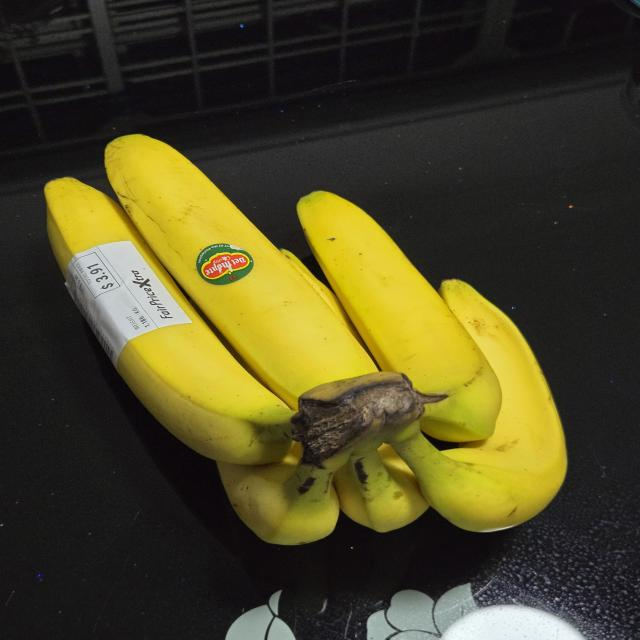banana: (30, 122, 581, 544)
